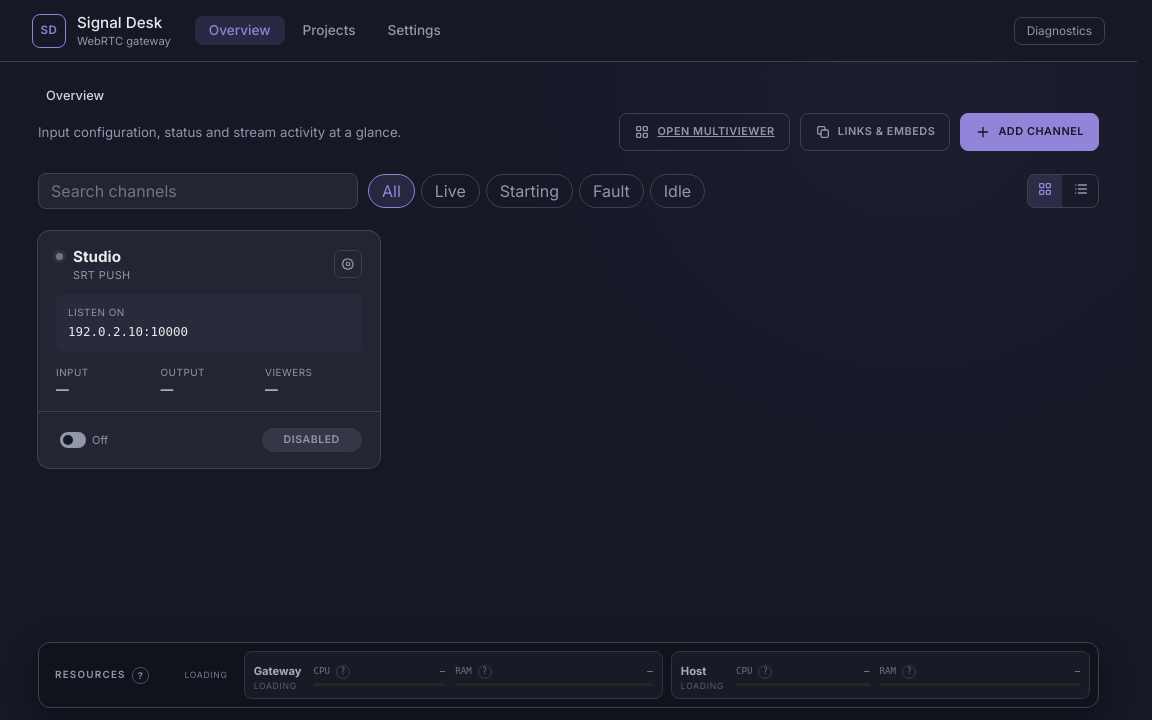
Test: dashboard navigation › restores saved enabled=false and reports a rejected toggle
What coordinates should you click on to do the following:
click the switch
I would click on:
 (84, 440)
Its box is [56,424,112,456].
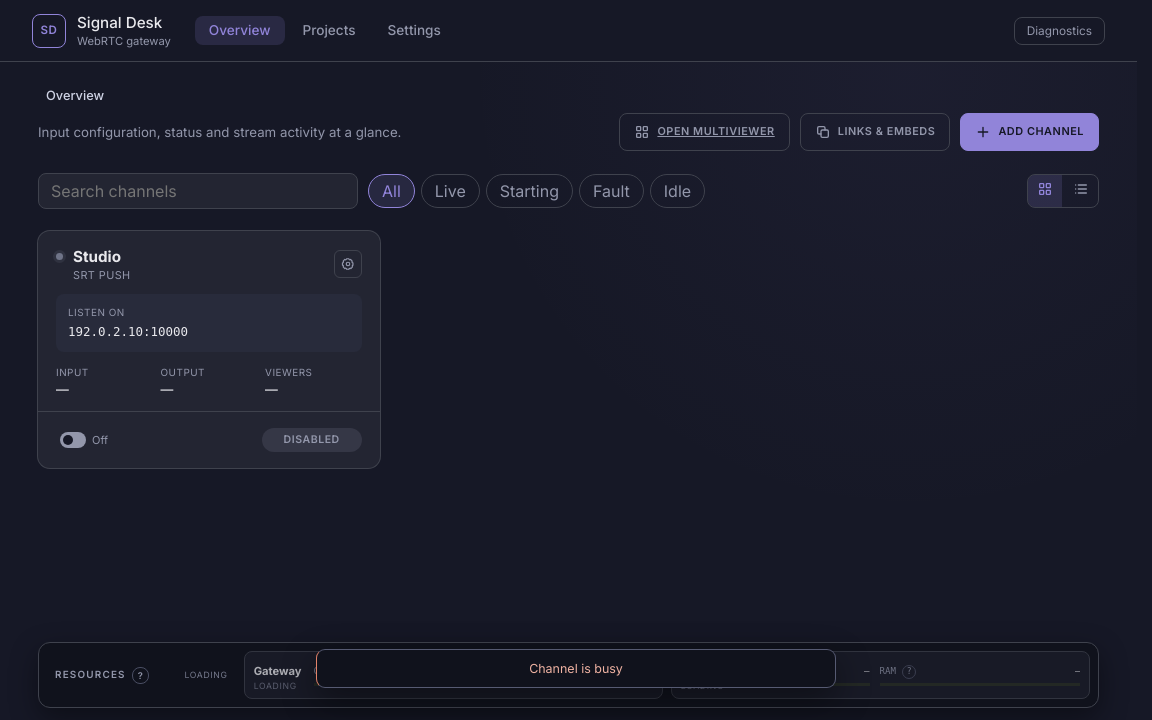
Check: the text "Channel is busy" is shown, box [316,649,836,688]
